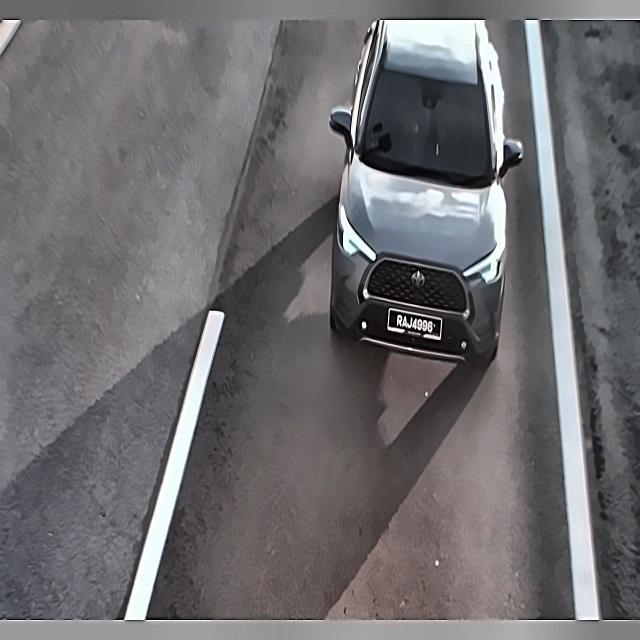car: (385, 303, 447, 343)
